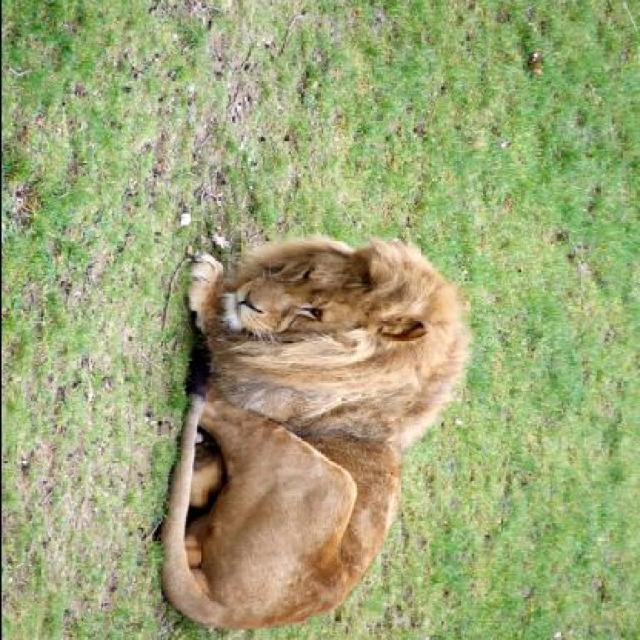Lion: (144, 226, 482, 639)
